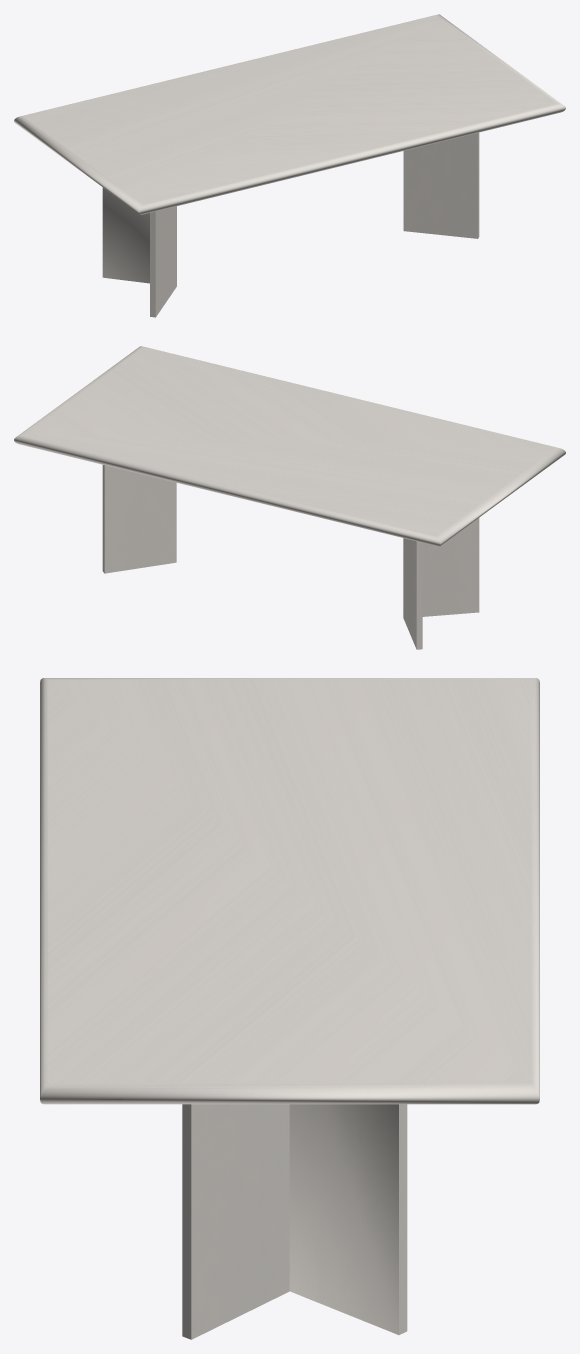
Rendered from pearlwhite_recta_round_valleyv.glb.
The picture shows the model from 3 angles, top to bottom: view 1: azimuth 30°, elevation 25°; view 2: azimuth 150°, elevation 25°; view 3: azimuth 270°, elevation 25°; orthographic projection. The views are drawn at different scales.
Visible parts, largest first — view 1: tabletop_recta_round.007, tableleg_valleyv.018; view 2: tabletop_recta_round.007, tableleg_valleyv.018; view 3: tabletop_recta_round.007, tableleg_valleyv.018.
Boxes of the visible parts, bbox=[...] form: tabletop_recta_round.007: bbox=[14, 14, 565, 214]; tableleg_valleyv.018: bbox=[102, 132, 479, 317]; tabletop_recta_round.007: bbox=[14, 346, 565, 546]; tableleg_valleyv.018: bbox=[102, 465, 479, 649]; tabletop_recta_round.007: bbox=[40, 678, 539, 1104]; tableleg_valleyv.018: bbox=[182, 1104, 407, 1339].
Bounding box in the file's own units: 7.5 × 2.5 × 3.8.
1 material, 1 textured.
